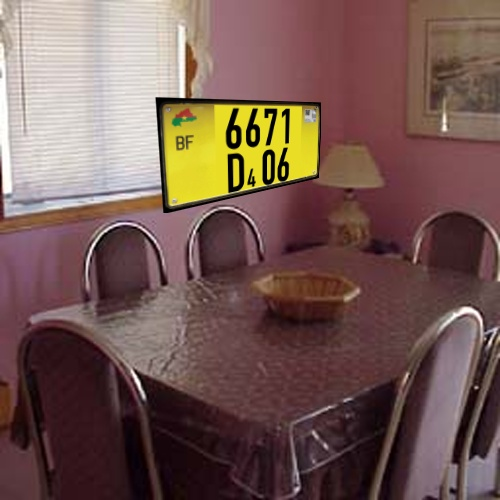plate: (142, 85, 350, 223)
